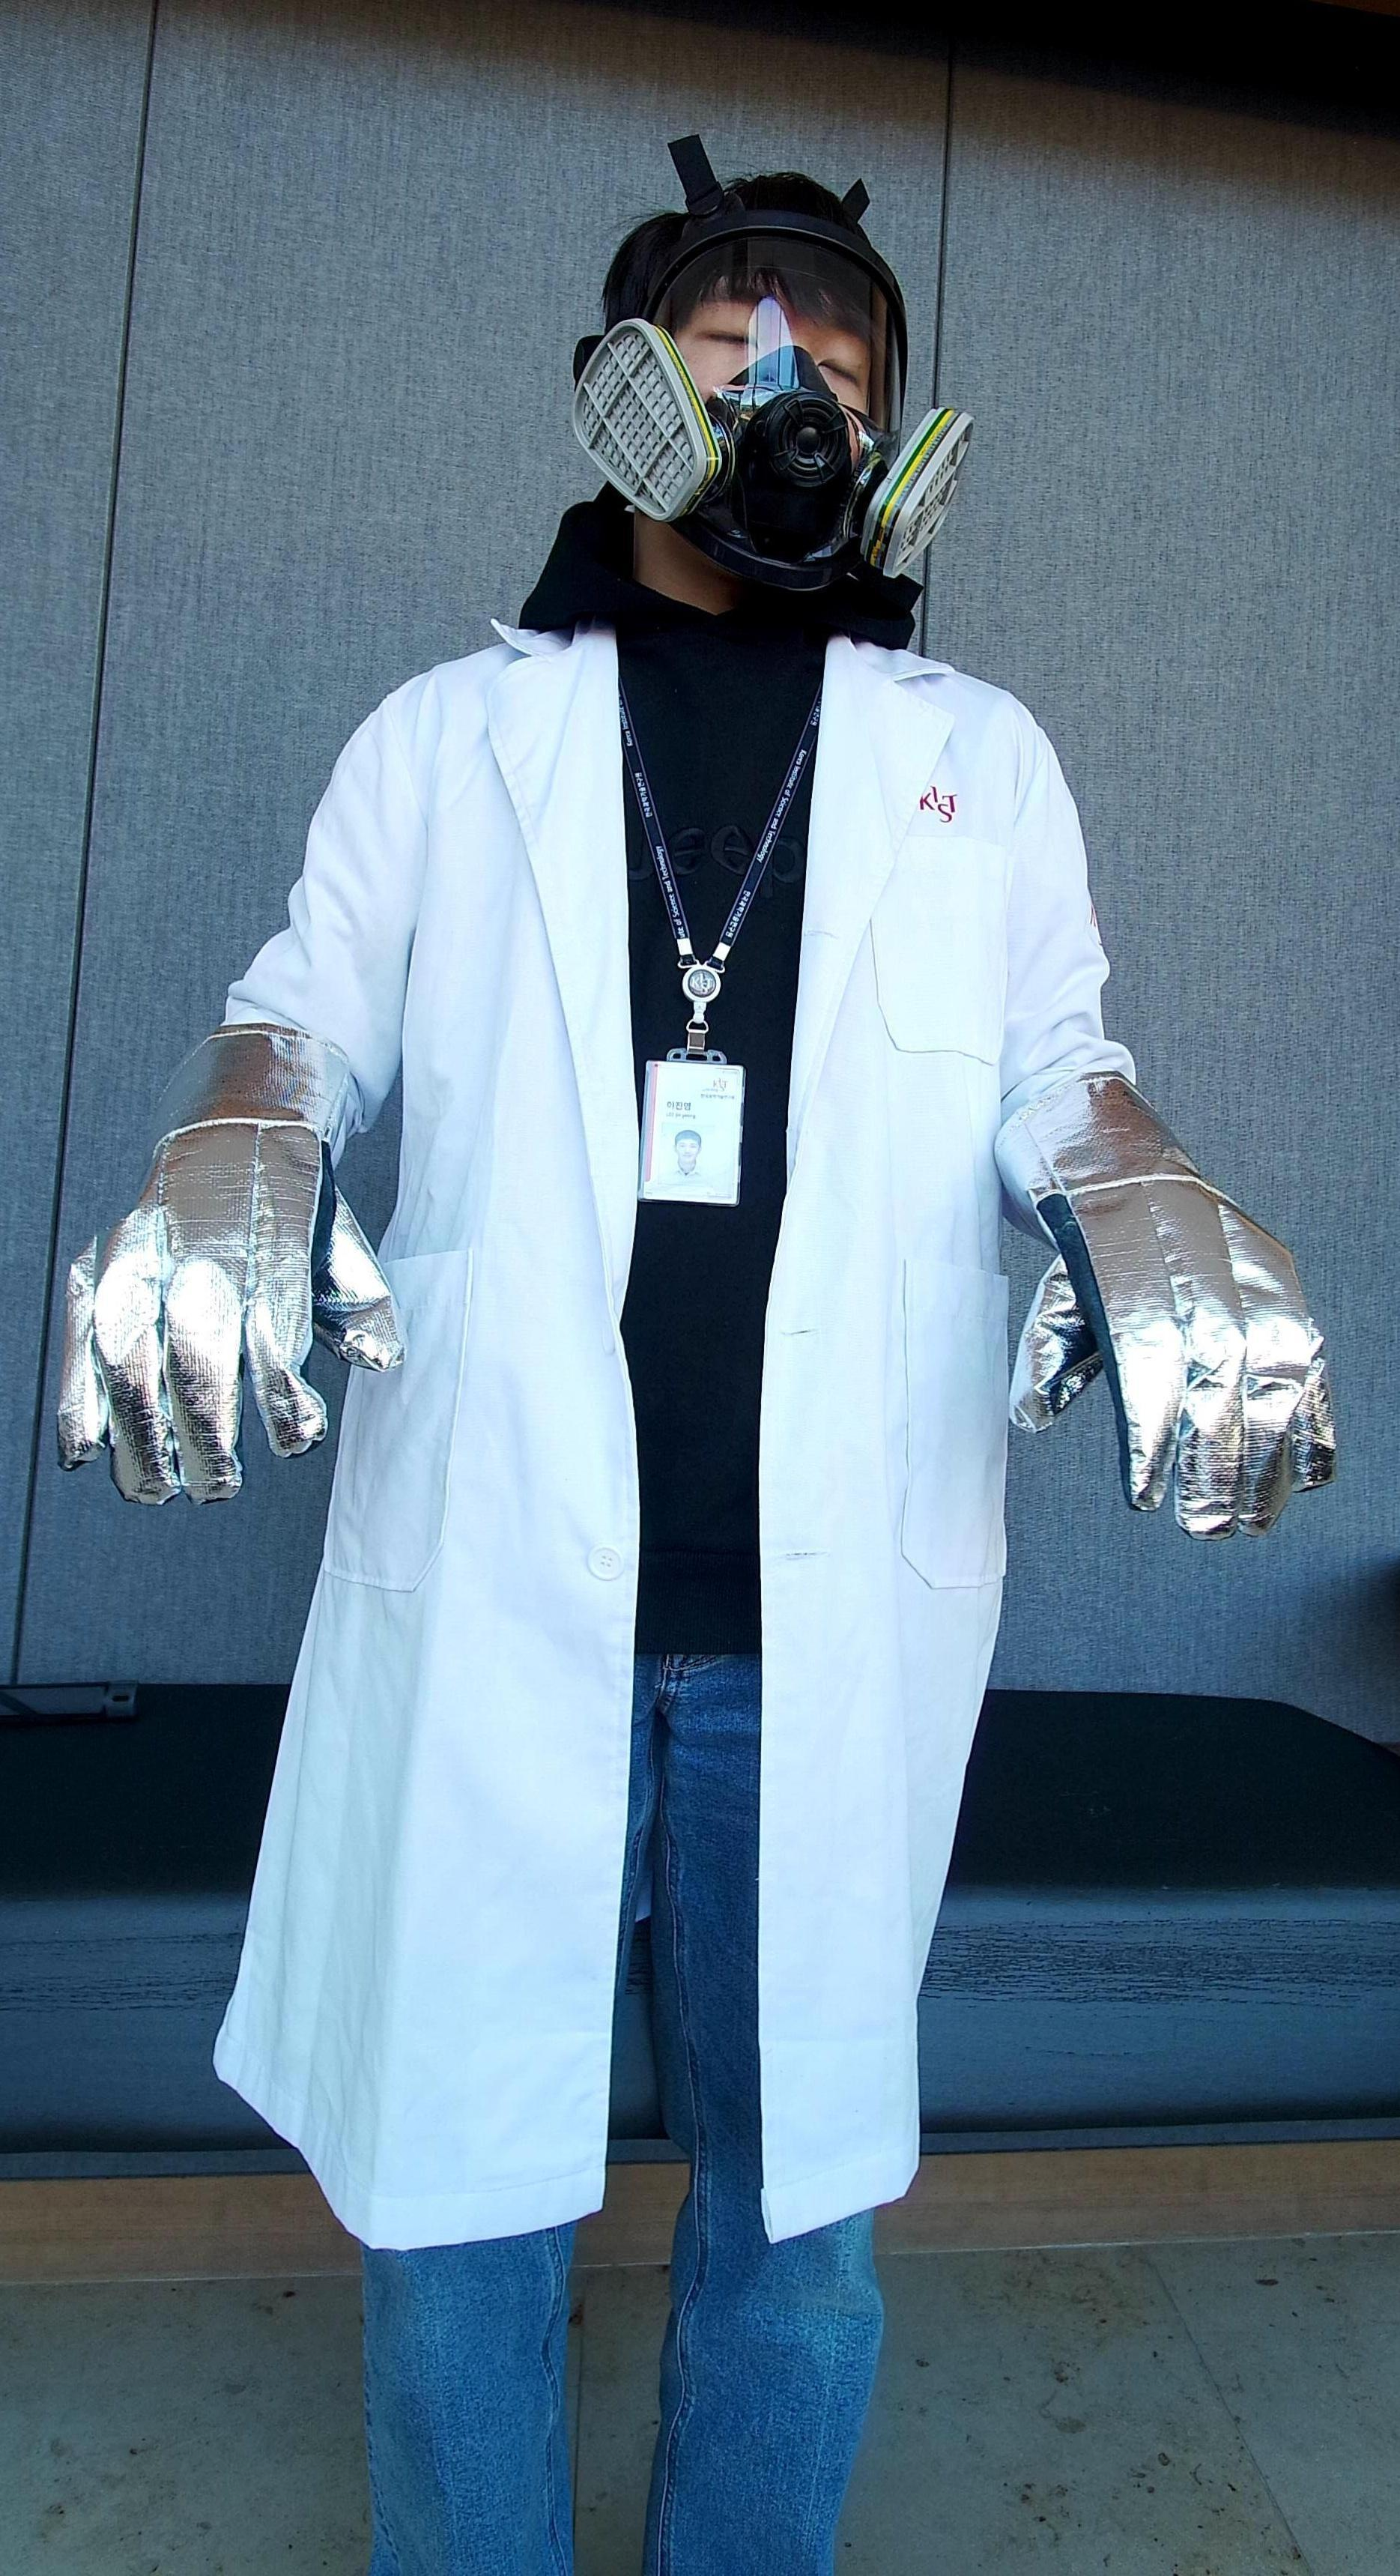lab_coat: (303, 705, 1050, 2212)
